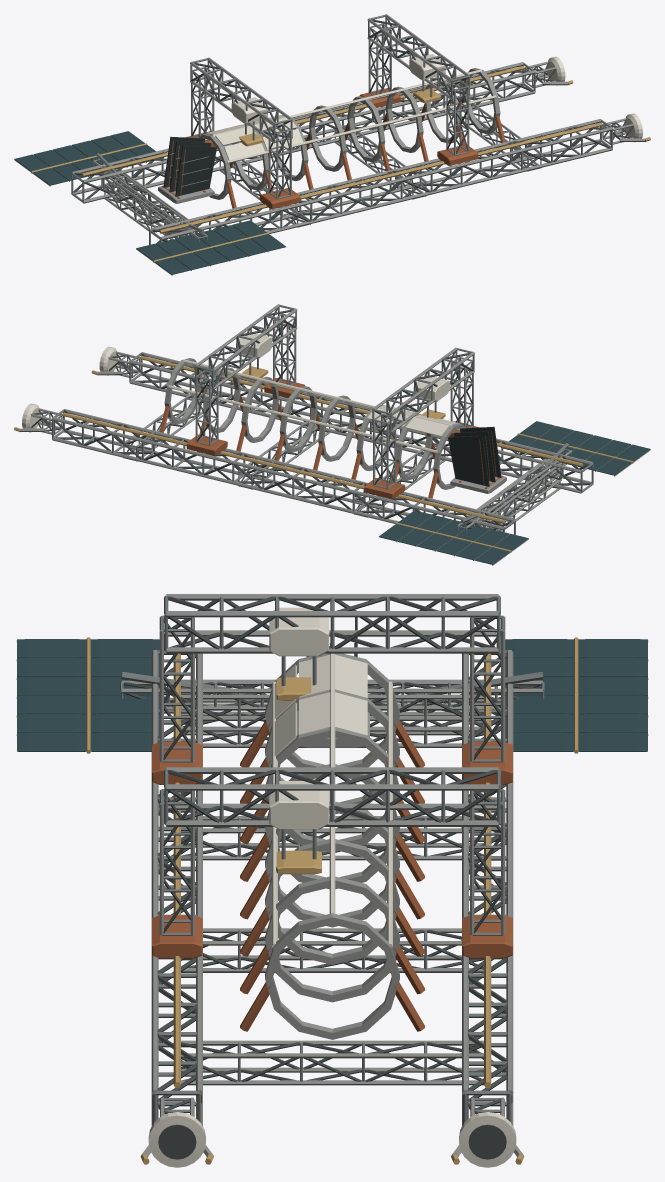
The model's file is foundry-gamma-v001.glb.
3 renders of one model, top to bottom at view 1: azimuth 30°, elevation 25°; view 2: azimuth 150°, elevation 25°; view 3: azimuth 270°, elevation 25°, orthographic. The views are drawn at different scales.
Parts seen in each view (by area): view 1: foundry-gamma-twin-build-ways, foundry-gamma-assembly-jig, foundry-gamma-traverser-b, foundry-gamma-traverser-a, foundry-gamma-solar-starboard, foundry-gamma-solar-port, foundry-gamma-thermal-collector, foundry-gamma-photovoltaic-yoke, foundry-gamma-power-crosshead, foundry-gamma-handoff-berth, foundry-gamma-supply-berth; view 2: foundry-gamma-twin-build-ways, foundry-gamma-assembly-jig, foundry-gamma-traverser-b, foundry-gamma-traverser-a, foundry-gamma-solar-port, foundry-gamma-solar-starboard, foundry-gamma-thermal-collector, foundry-gamma-photovoltaic-yoke, foundry-gamma-power-crosshead, foundry-gamma-supply-berth, foundry-gamma-handoff-berth; view 3: foundry-gamma-twin-build-ways, foundry-gamma-assembly-jig, foundry-gamma-traverser-b, foundry-gamma-traverser-a, foundry-gamma-solar-starboard, foundry-gamma-solar-port, foundry-gamma-photovoltaic-yoke, foundry-gamma-power-crosshead, foundry-gamma-supply-berth, foundry-gamma-handoff-berth.
Part boxes in pixels (x1,y1,x2,y2): foundry-gamma-twin-build-ways: (71,62,612,244); foundry-gamma-assembly-jig: (199,68,505,208); foundry-gamma-traverser-b: (359,14,478,165); foundry-gamma-traverser-a: (185,57,300,209); foundry-gamma-solar-starboard: (136,220,285,275); foundry-gamma-solar-port: (14,131,164,186); foundry-gamma-thermal-collector: (158,136,216,203); foundry-gamma-photovoltaic-yoke: (92,153,207,242); foundry-gamma-power-crosshead: (103,170,196,239); foundry-gamma-handoff-berth: (524,56,573,88); foundry-gamma-supply-berth: (602,113,650,145); foundry-gamma-twin-build-ways: (52,352,593,534); foundry-gamma-assembly-jig: (159,358,465,498); foundry-gamma-traverser-b: (186,304,305,455); foundry-gamma-traverser-a: (364,347,479,499); foundry-gamma-solar-port: (379,510,528,565); foundry-gamma-solar-starboard: (500,421,650,476); foundry-gamma-thermal-collector: (448,426,506,493); foundry-gamma-photovoltaic-yoke: (457,443,572,532); foundry-gamma-power-crosshead: (467,458,561,528); foundry-gamma-supply-berth: (91,346,140,378); foundry-gamma-handoff-berth: (14,403,62,435); foundry-gamma-twin-build-ways: (151,650,513,1126); foundry-gamma-assembly-jig: (240,653,424,1039); foundry-gamma-traverser-b: (152,767,512,958); foundry-gamma-traverser-a: (152,594,512,784); foundry-gamma-solar-starboard: (16,637,159,753); foundry-gamma-solar-port: (505,637,648,753); foundry-gamma-photovoltaic-yoke: (120,672,544,710); foundry-gamma-power-crosshead: (181,679,483,731); foundry-gamma-supply-berth: (140,1097,213,1167); foundry-gamma-handoff-berth: (451,1097,524,1167).
Size of the model in its own units: 639 by 136 by 342.
Materials: 1 (1 with a texture image).
